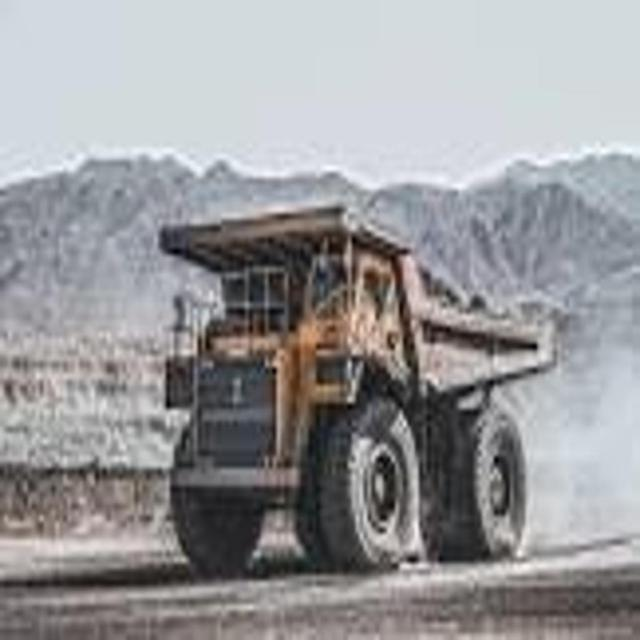dump_truck: (147, 203, 550, 589)
